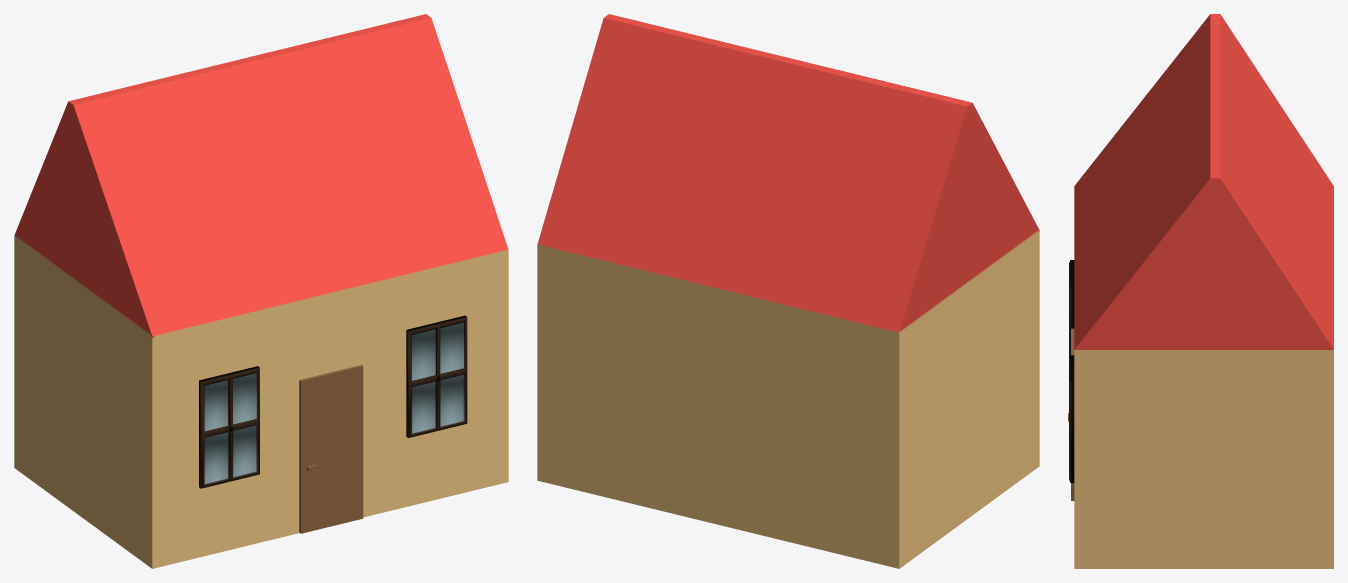
The model's file is house.glb.
3 views of the same model, side by side, from view 1: azimuth 30°, elevation 25°; view 2: azimuth 150°, elevation 25°; view 3: azimuth 270°, elevation 25° (orthographic). The views are drawn at different scales.
Visible parts, largest first — view 1: WindowRight; view 2: WindowRight; view 3: WindowRight.
Boxes of the visible parts, bbox=[...] form: WindowRight: bbox=[14, 14, 508, 568]; WindowRight: bbox=[537, 14, 1039, 568]; WindowRight: bbox=[1068, 14, 1333, 568].
Bounding box in the file's own units: 11.66 × 12.67 × 7.86.
3 materials, 3 textured.
